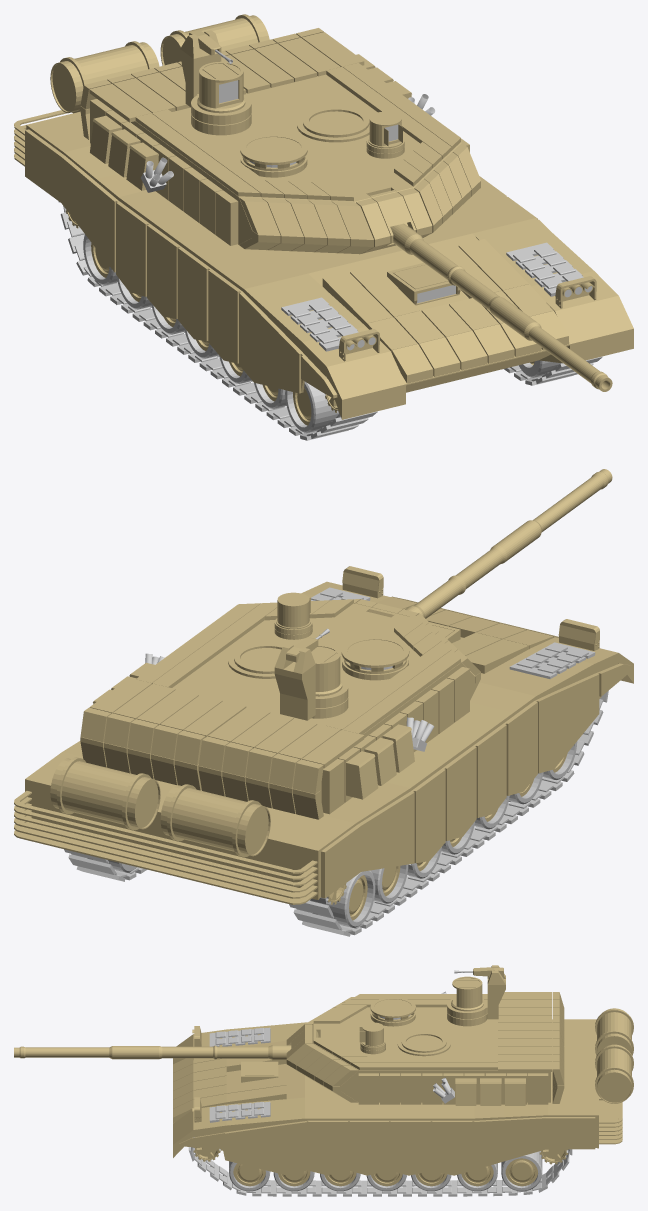
File: tank with chilren.gltf
The picture shows the model from 3 angles, top to bottom: view 1: azimuth 30°, elevation 25°; view 2: azimuth 150°, elevation 25°; view 3: azimuth 270°, elevation 25°; orthographic projection. The views are drawn at different scales.
Parts seen in each view (by area): view 1: body_Cube.035, Cube.005_Cube.004, Cube.006_Cube.032, Cube.015_Cube.007, Cylinder.001_Cylinder.005, Cube.086_Cube.087, Cylinder.004_Cylinder.007, Cylinder, Cube.004_Cube.095, Cube.019_Cube.056, Cube.093_Cube.012, Cube.008_Cube.045 (+5 smaller); view 2: body_Cube.035, Cube.005_Cube.004, Cube.015_Cube.007, Cube.006_Cube.032, Cylinder.001_Cylinder.005, Cube.086_Cube.087, Cylinder.004_Cylinder.007, Cube.099_Cube.021, Cube.004_Cube.095, Cylinder, Cube.008_Cube.045, Cube.098_Cube.020 (+1 smaller); view 3: body_Cube.035, Cube.005_Cube.004, Cube.079_Cube.005, Cube.006_Cube.032, Cylinder.001_Cylinder.005, Cube.014_Cube.097, Cube.107_Cube.031, Cylinder.004_Cylinder.007, Cylinder, Cube.019_Cube.056, Cube.004_Cube.095, Cube.101_Cube.024 (+7 smaller).
Boxes of the visible parts, left/top/right/bottom form: body_Cube.035: left=14, top=14, right=633, bottom=419; Cube.005_Cube.004: left=80, top=28, right=480, bottom=254; Cube.006_Cube.032: left=390, top=223, right=612, bottom=391; Cube.015_Cube.007: left=58, top=201, right=377, bottom=440; Cylinder.001_Cylinder.005: left=180, top=30, right=251, bottom=124; Cube.086_Cube.087: left=90, top=115, right=158, bottom=190; Cylinder.004_Cylinder.007: left=240, top=134, right=307, bottom=177; Cylinder: left=297, top=107, right=370, bottom=142; Cube.004_Cube.095: left=281, top=297, right=358, bottom=351; Cube.019_Cube.056: left=506, top=242, right=583, bottom=296; Cube.093_Cube.012: left=285, top=381, right=338, bottom=433; Cube.008_Cube.045: left=366, top=111, right=404, bottom=153; body_Cube.035: left=14, top=566, right=633, bottom=904; Cube.005_Cube.004: left=80, top=599, right=480, bottom=819; Cube.015_Cube.007: left=289, top=690, right=608, bottom=936; Cube.006_Cube.032: left=405, top=469, right=612, bottom=618; Cylinder.001_Cylinder.005: left=274, top=643, right=348, bottom=720; Cube.086_Cube.087: left=346, top=724, right=414, bottom=799; Cylinder.004_Cylinder.007: left=341, top=637, right=409, bottom=680; Cube.099_Cube.021: left=309, top=870, right=375, bottom=927; Cube.004_Cube.095: left=509, top=642, right=595, bottom=678; Cylinder: left=228, top=643, right=284, bottom=678; Cube.008_Cube.045: left=274, top=592, right=312, bottom=634; Cube.098_Cube.020: left=370, top=864, right=408, bottom=903; body_Cube.035: left=173, top=1008, right=633, bottom=1175; Cube.005_Cube.004: left=286, top=992, right=564, bottom=1104; Cube.079_Cube.005: left=188, top=1137, right=572, bottom=1196; Cube.006_Cube.032: left=14, top=1045, right=291, bottom=1059; Cylinder.001_Cylinder.005: left=447, top=965, right=505, bottom=1019; Cube.014_Cube.097: left=455, top=1078, right=525, bottom=1105; Cube.107_Cube.031: left=501, top=1151, right=542, bottom=1191; Cylinder.004_Cylinder.007: left=370, top=997, right=415, bottom=1026; Cylinder: left=397, top=1032, right=450, bottom=1056; Cube.019_Cube.056: left=209, top=1101, right=270, bottom=1122; Cube.004_Cube.095: left=209, top=1027, right=270, bottom=1046; Cube.101_Cube.024: left=229, top=1161, right=270, bottom=1191.
Bounding box in the file's own units: 2.54 × 2.02 × 6.75.
